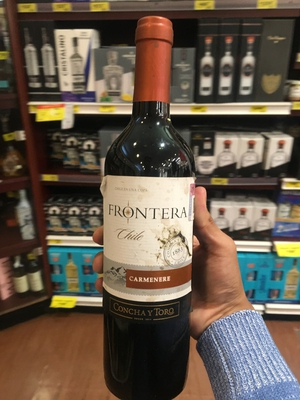frontera carmenere: (87, 13, 210, 387)
